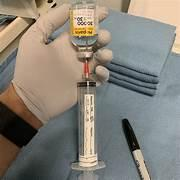Glove: (12, 4, 82, 122)
Iv_Bottle: (70, 0, 98, 48)
Syringe: (72, 62, 104, 179)
